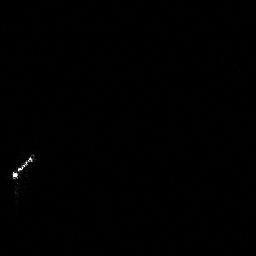ship: (7, 150, 40, 183)
